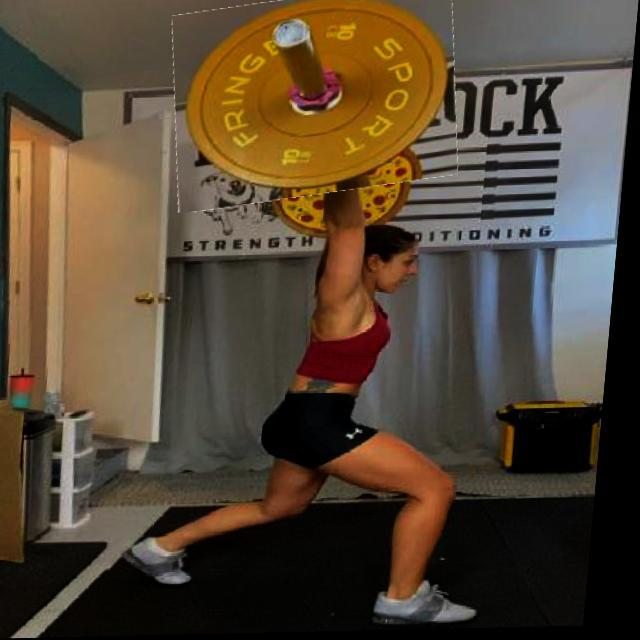barbell: (165, 1, 469, 207)
